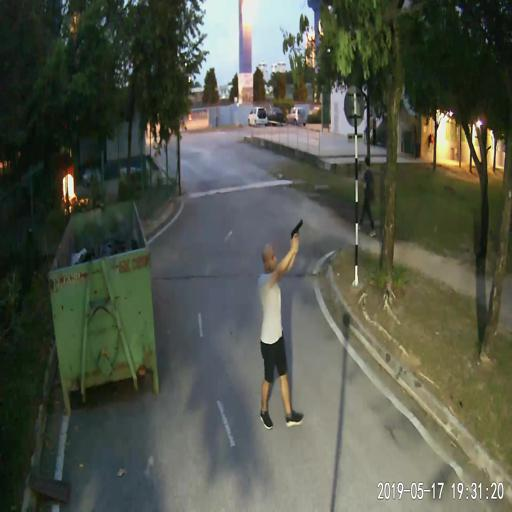pistol: (290, 218, 302, 244)
